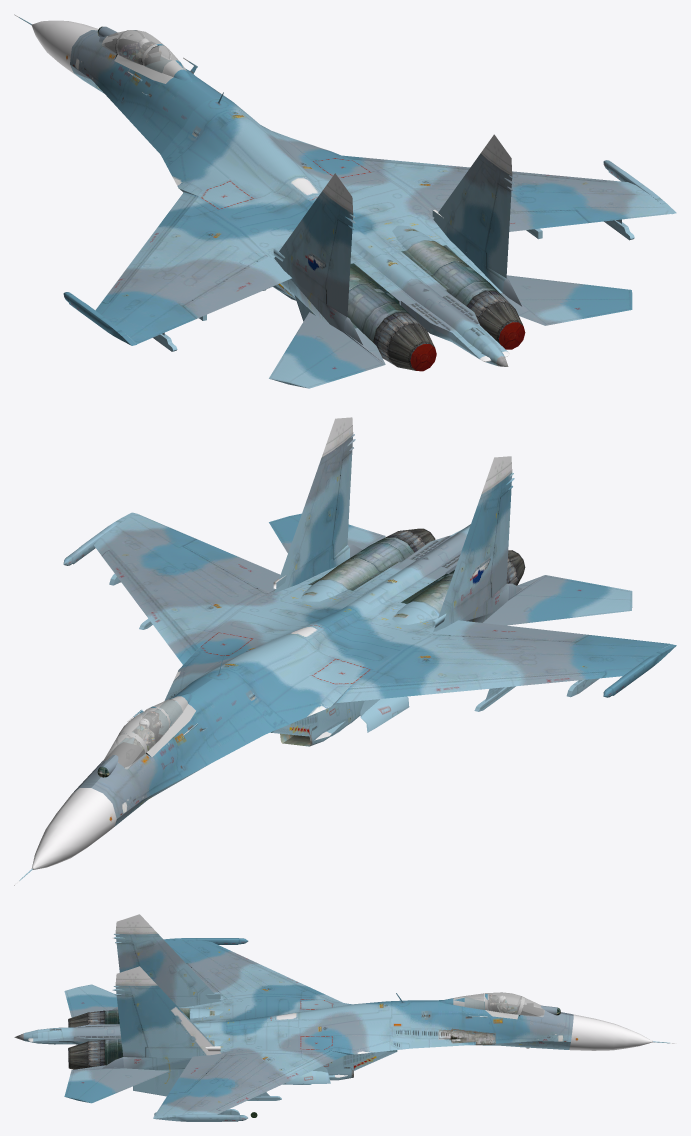
The picture shows the model from 3 angles, top to bottom: view 1: azimuth 30°, elevation 25°; view 2: azimuth 150°, elevation 25°; view 3: azimuth 270°, elevation 25°; orthographic projection. The views are drawn at different scales.
Visible parts, largest first — view 1: DrawCall_0046, DrawCall_0127, DrawCall_0142, DrawCall_0077, DrawCall_0052, DrawCall_0088, DrawCall_0130, DrawCall_0027, DrawCall_0022, DrawCall_0121, DrawCall_0025, DrawCall_0125 (+14 smaller); view 2: DrawCall_0046, DrawCall_0127, DrawCall_0142, DrawCall_0077, DrawCall_0088, DrawCall_0130, DrawCall_0052, DrawCall_0135, DrawCall_0138, DrawCall_0078, DrawCall_0121, DrawCall_0165 (+11 smaller); view 3: DrawCall_0046, DrawCall_0146, DrawCall_0142, DrawCall_0093, DrawCall_0127, DrawCall_0118, DrawCall_0027, DrawCall_0135, DrawCall_0166, DrawCall_0078, DrawCall_0052, DrawCall_0022 (+16 smaller).
Part boxes in pixels (<box>): DrawCall_0046: <box>161,98,503,341</box>; DrawCall_0127: <box>95,197,265,344</box>; DrawCall_0142: <box>351,159,671,222</box>; DrawCall_0077: <box>70,30,212,154</box>; DrawCall_0052: <box>269,312,385,388</box>; DrawCall_0088: <box>433,134,514,263</box>; DrawCall_0130: <box>274,173,355,301</box>; DrawCall_0027: <box>500,275,632,325</box>; DrawCall_0022: <box>401,290,509,361</box>; DrawCall_0121: <box>183,254,291,318</box>; DrawCall_0025: <box>217,112,307,183</box>; DrawCall_0125: <box>482,183,511,278</box>; DrawCall_0046: <box>164,537,454,734</box>; DrawCall_0127: <box>352,635,670,685</box>; DrawCall_0142: <box>94,513,265,647</box>; DrawCall_0077: <box>91,679,264,818</box>; DrawCall_0088: <box>274,417,355,592</box>; DrawCall_0130: <box>433,456,514,631</box>; DrawCall_0052: <box>483,575,632,625</box>; DrawCall_0135: <box>32,788,116,869</box>; DrawCall_0138: <box>336,669,605,703</box>; DrawCall_0078: <box>103,549,198,664</box>; DrawCall_0121: <box>432,620,588,642</box>; DrawCall_0165: <box>183,539,280,594</box>; DrawCall_0046: <box>104,997,410,1064</box>; DrawCall_0146: <box>410,1001,573,1048</box>; DrawCall_0142: <box>154,1049,326,1116</box>; DrawCall_0093: <box>112,966,221,1057</box>; DrawCall_0127: <box>165,939,326,1000</box>; DrawCall_0118: <box>112,914,220,1005</box>; DrawCall_0027: <box>64,1057,169,1103</box>; DrawCall_0135: <box>569,1014,651,1050</box>; DrawCall_0166: <box>116,996,151,1057</box>; DrawCall_0078: <box>215,1050,346,1110</box>; DrawCall_0052: <box>64,984,117,1017</box>; DrawCall_0022: <box>28,1024,120,1041</box>.
Bounding box in the file's own units: 14.67 × 5.73 × 23.05.
